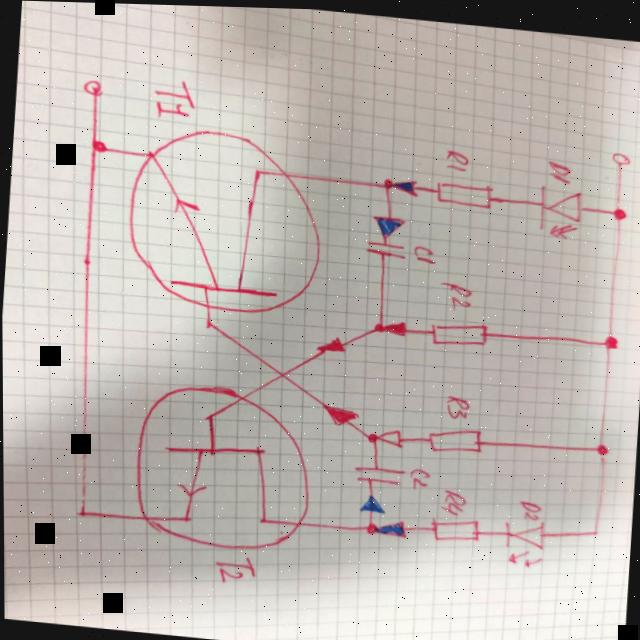capacitor: (351, 459, 406, 484), (361, 233, 408, 256)
crossover: (274, 365, 291, 378)
diode: (534, 177, 586, 236), (500, 513, 549, 565)
junction: (89, 135, 110, 153), (361, 516, 381, 533), (602, 328, 621, 345), (611, 201, 630, 217), (199, 314, 218, 330), (364, 428, 382, 441), (594, 438, 610, 451), (382, 174, 396, 187), (374, 316, 387, 329), (75, 506, 88, 515), (589, 523, 600, 532)
resistor: (430, 314, 490, 345), (433, 175, 495, 205), (425, 421, 485, 452), (429, 511, 481, 539)
terminal: (82, 76, 106, 96), (610, 145, 633, 162)
text: (150, 73, 201, 120), (211, 550, 259, 586), (436, 274, 474, 306), (439, 484, 469, 512), (440, 143, 472, 169), (545, 154, 575, 181), (404, 460, 434, 487), (444, 390, 472, 416), (412, 239, 441, 262), (517, 495, 542, 518)
transistor: (120, 119, 331, 319), (127, 373, 319, 554)
